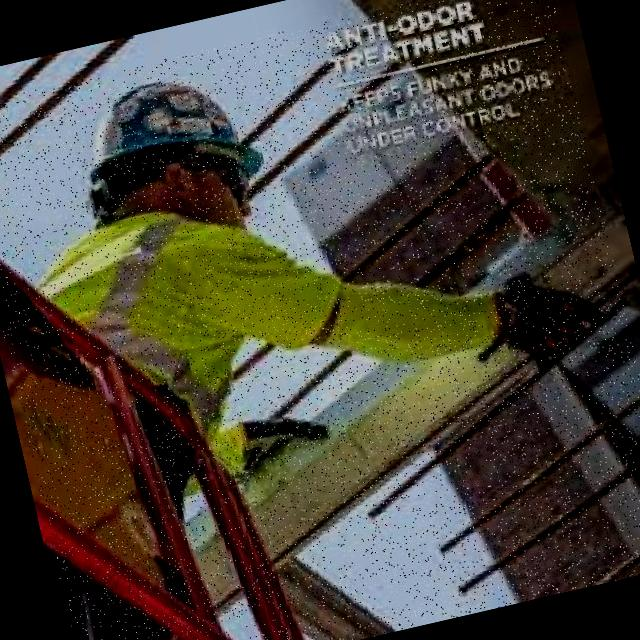gloves: (424, 210, 620, 432)
helmet: (61, 59, 266, 210)
vest: (18, 173, 376, 519)
